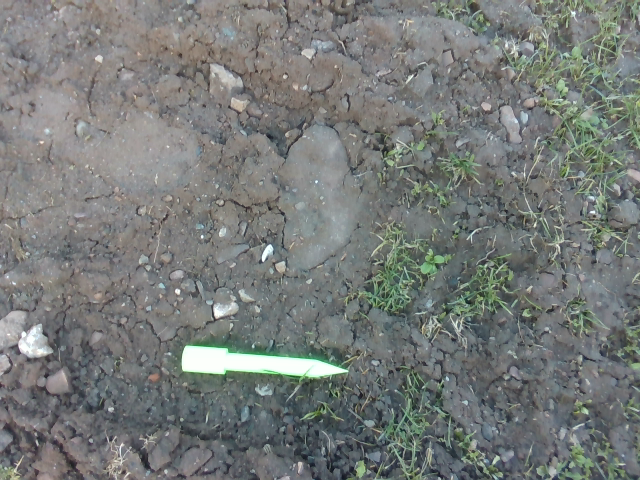Probe: (174, 338, 355, 383)
